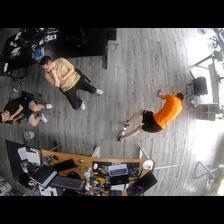fall: (117, 89, 185, 141)
normal: (41, 58, 103, 109), (1, 95, 56, 126)
